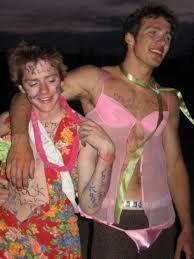Drunk: (22, 63, 62, 109), (141, 17, 171, 66)
